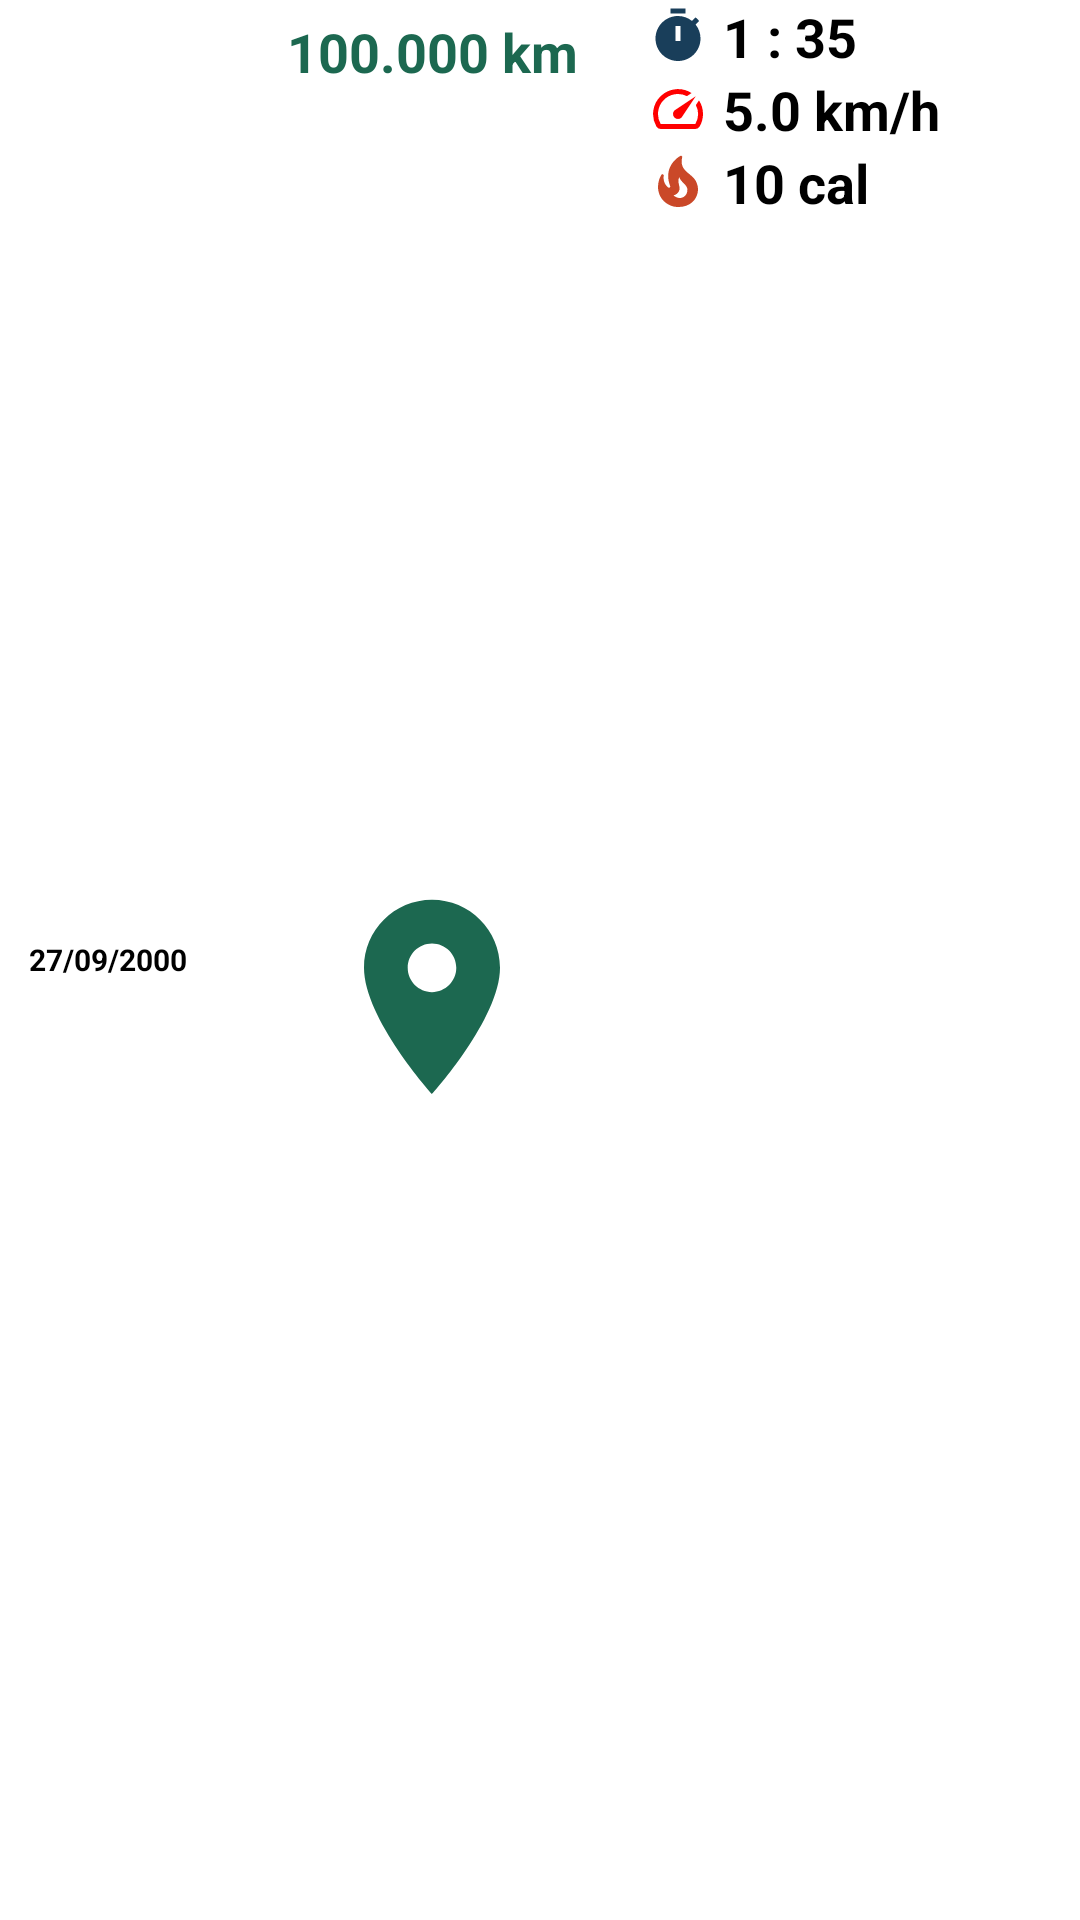

Icons on this 1080px×1920px Android screen, each with the point to tap as [x,y]:
fire: [678,181]
speed: [678,109]
timer: [678,34]
